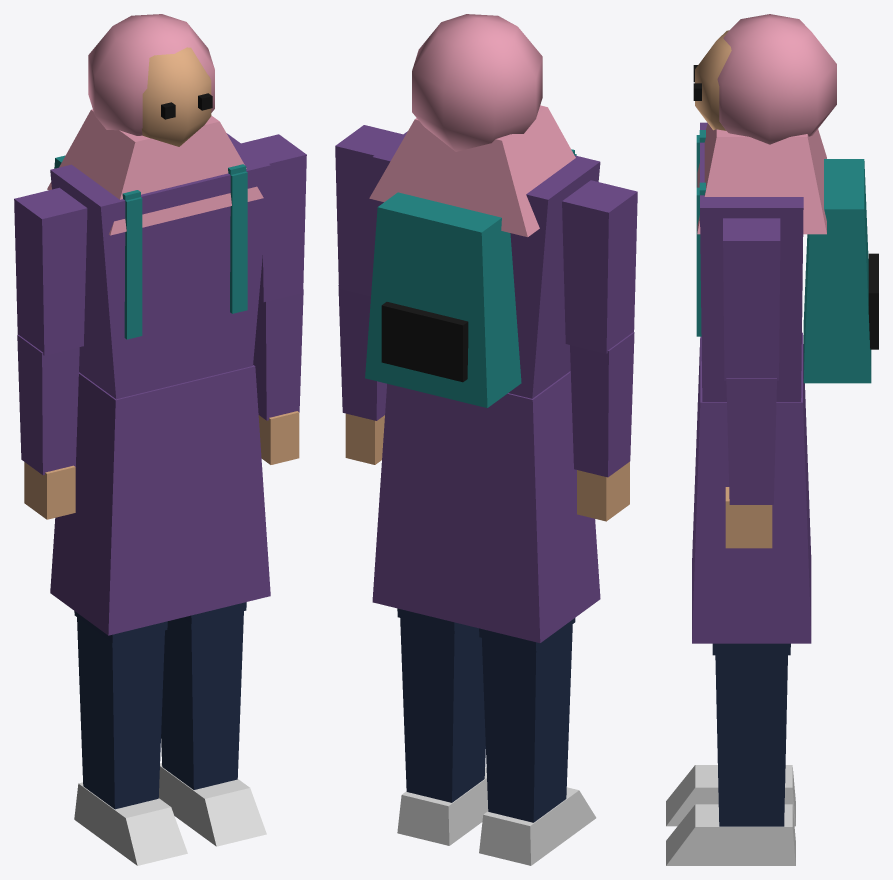
Rendered from mumu.glb.
3 renders of one model, left to right at view 1: azimuth 30°, elevation 25°; view 2: azimuth 150°, elevation 25°; view 3: azimuth 270°, elevation 25°, orthographic. The views are drawn at different scales.
Visible parts, largest first — view 1: torso, head, arm_r, leg_r, leg_l, arm_l; view 2: torso, head, arm_r, leg_r, leg_l, arm_l; view 3: torso, head, leg_l, arm_l, leg_r.
Part boxes in pixels (x1,y1,x2,y2): torso: (50,133,270,635); head: (47,14,263,235); arm_r: (14,187,87,519); leg_r: (74,611,187,865); leg_l: (158,602,266,846); arm_l: (241,134,306,464); torso: (365,131,600,642); head: (369,14,575,237); arm_r: (562,180,637,521); leg_r: (479,618,596,865); leg_l: (397,608,488,845); arm_l: (335,125,402,464); torso: (692,122,878,643); head: (693,14,836,234); leg_l: (666,643,795,865); arm_l: (723,218,780,548); leg_r: (666,765,795,826).
Bounding box in the file's own units: 0.568 × 1.63 × 0.3859.
Materials: 1 (1 with a texture image).
